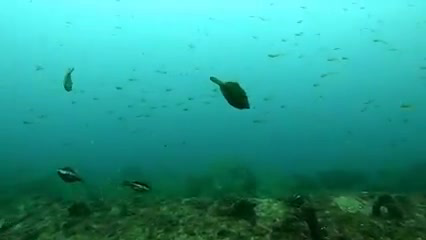kawahagi: (207, 74, 253, 111)
smallfish: (59, 65, 88, 102), (116, 175, 155, 195), (53, 163, 86, 185)
